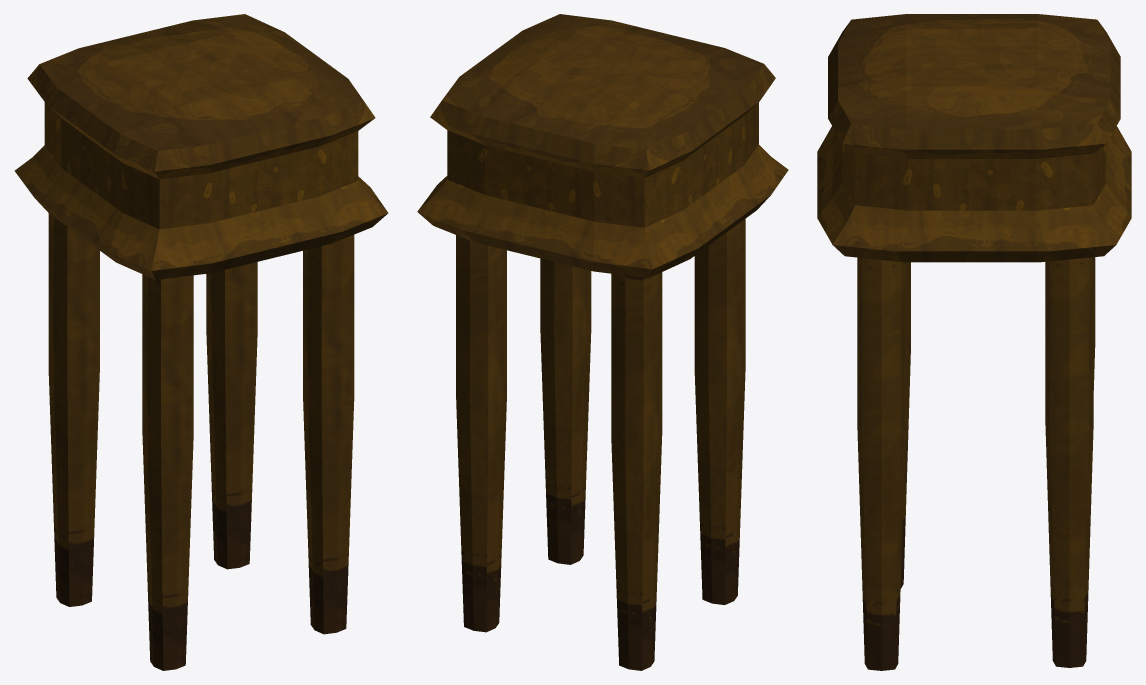
Rendered from high_chair_cube.fbx.
The picture shows the model from 3 angles, left to right: view 1: azimuth 30°, elevation 25°; view 2: azimuth 150°, elevation 25°; view 3: azimuth 270°, elevation 25°; orthographic projection. The views are drawn at different scales.
Visible parts, largest first — view 1: Cube.010; view 2: Cube.010; view 3: Cube.010.
Part boxes in pixels (<box>): Cube.010: <box>14,14,388,670</box>; Cube.010: <box>417,14,788,670</box>; Cube.010: <box>817,14,1131,670</box>.
Size of the model in its own units: 215 by 426 by 215.
